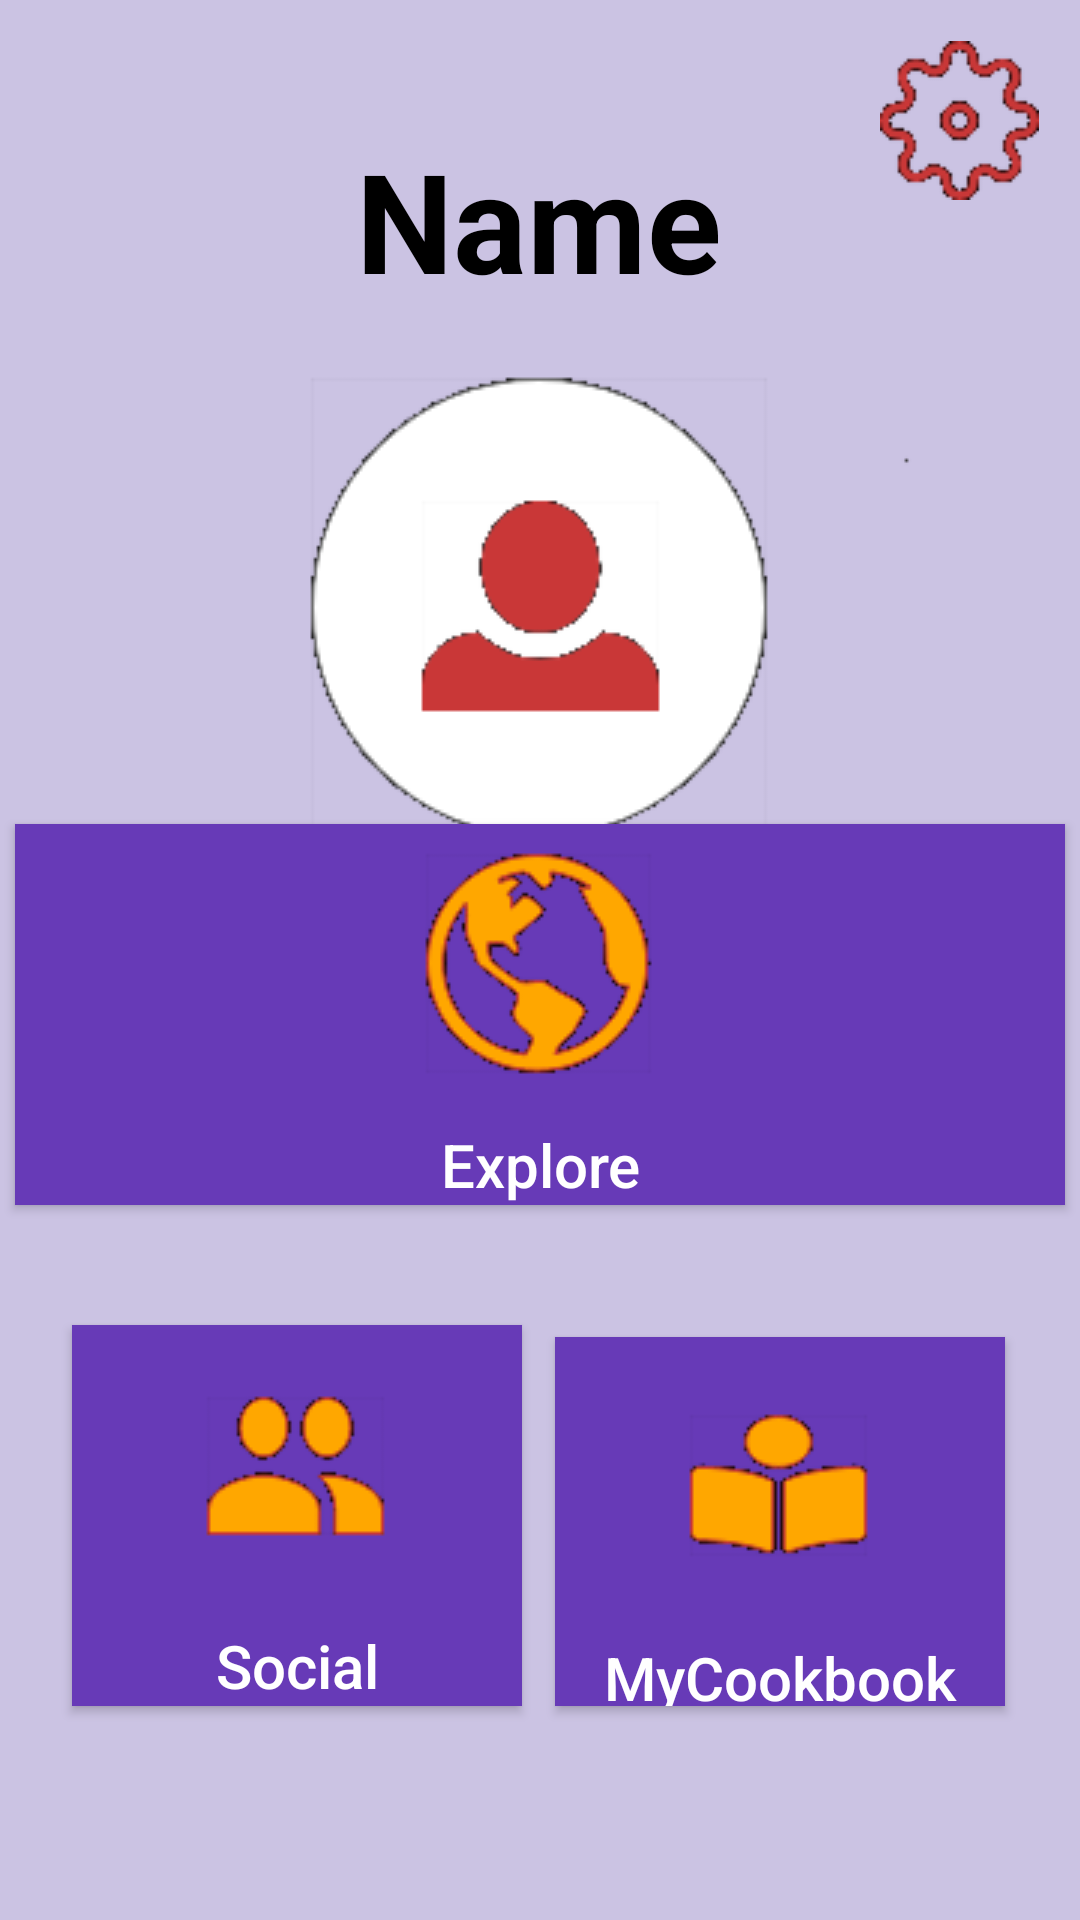

Point at icon controls on the screen. Image size 1080*1920, points as (x=x, y=y).
settings: (x=959, y=120)
